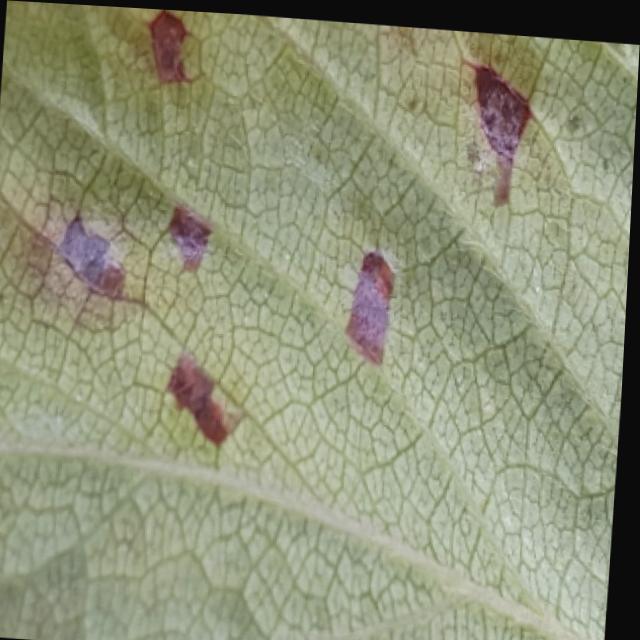Angular Leafspot: (0, 0, 629, 465)
